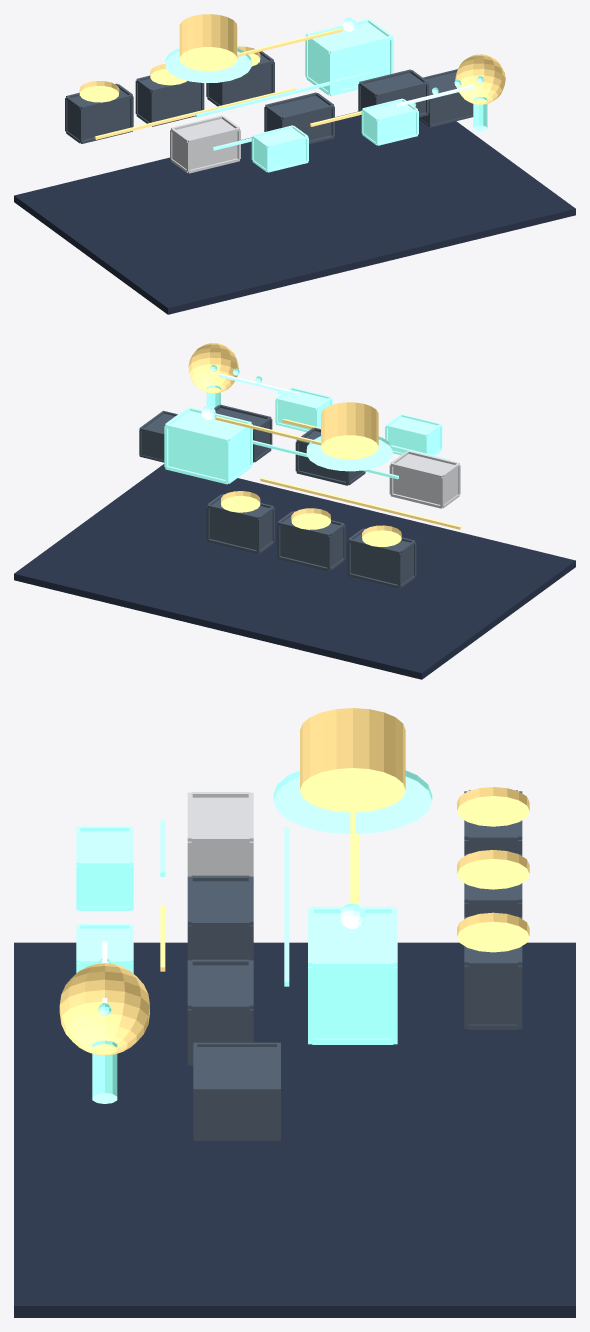
The model's file is storage-csi-pv.glb.
3 views of the same model, one above another, from view 1: azimuth 30°, elevation 25°; view 2: azimuth 150°, elevation 25°; view 3: azimuth 270°, elevation 25° (orthographic). The views are drawn at different scales.
Visible parts, largest first — view 1: storage-floor, csi-driver, pv-0, storage-class, backend-disk-0, backend-disk-1, pv-1, pvc-0, pvc-1, pv-2, backend-disk-2, consumer-pod (+9 smaller); view 2: storage-floor, csi-driver, pv-0, storage-class, backend-disk-0, backend-disk-1, backend-disk-2, consumer-pod, pvc-0, pvc-1, sc-provisioner, pv-1 (+8 smaller); view 3: storage-floor, csi-driver, storage-class, worker-node, consumer-pod, pv-2, pv-1, pv-0, pvc-0, backend-disk-2, sc-provisioner, platter-2 (+6 smaller).
Part boxes in pixels (x1,y1,x2,y2): storage-floor: [14, 111, 575, 314]; csi-driver: [305, 18, 393, 96]; pv-0: [170, 115, 240, 173]; storage-class: [179, 14, 237, 71]; backend-disk-0: [65, 83, 133, 143]; backend-disk-1: [135, 75, 204, 126]; pv-1: [264, 92, 334, 144]; pvc-0: [251, 125, 308, 172]; pvc-1: [361, 98, 418, 145]; pv-2: [358, 69, 429, 117]; backend-disk-2: [206, 51, 274, 106]; consumer-pod: [455, 54, 505, 104]; storage-floor: [14, 464, 575, 679]; csi-driver: [164, 407, 252, 484]; pv-0: [389, 450, 460, 508]; storage-class: [321, 402, 378, 459]; backend-disk-0: [347, 528, 416, 588]; backend-disk-1: [277, 511, 345, 571]; backend-disk-2: [206, 493, 274, 553]; consumer-pod: [188, 343, 238, 393]; pvc-0: [385, 414, 442, 455]; pvc-1: [275, 387, 332, 432]; sc-provisioner: [306, 436, 392, 471]; pv-1: [295, 427, 365, 485]; storage-floor: [14, 942, 575, 1317]; csi-driver: [308, 906, 397, 1044]; storage-class: [300, 708, 405, 812]; worker-node: [193, 1042, 280, 1140]; consumer-pod: [59, 963, 149, 1055]; pv-2: [187, 959, 253, 1066]; pv-1: [187, 875, 253, 960]; pv-0: [187, 792, 253, 876]; pvc-0: [76, 826, 133, 910]; backend-disk-2: [464, 916, 522, 1029]; sc-provisioner: [273, 770, 432, 833]; platter-2: [457, 912, 529, 952].
Size of what is drawn, in the model's own units: 5.2 by 2.29 by 3.4.
